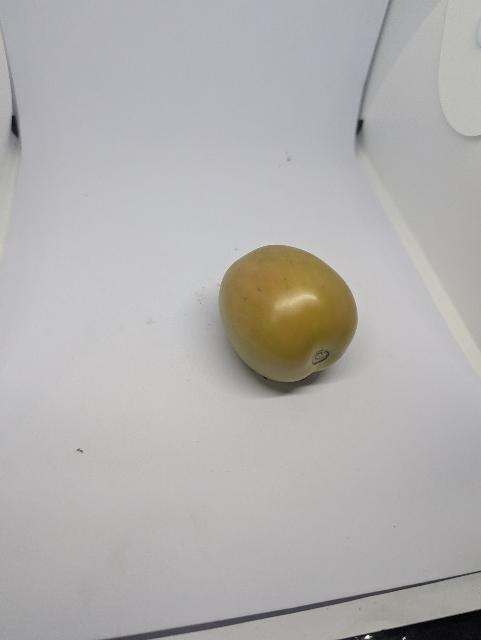breaker: (215, 245, 362, 384)
